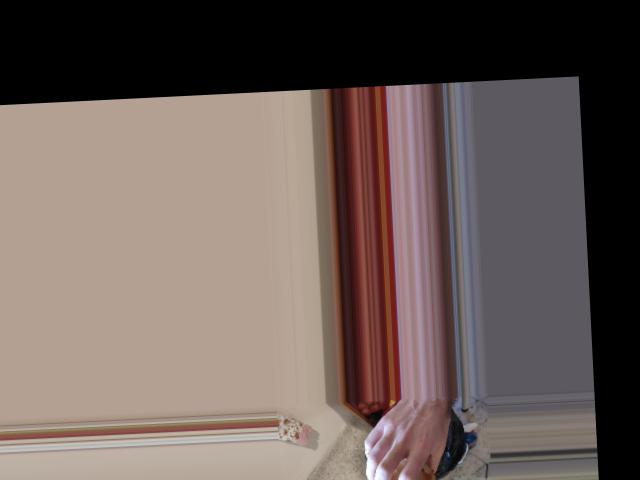onion: (373, 452, 434, 480)
